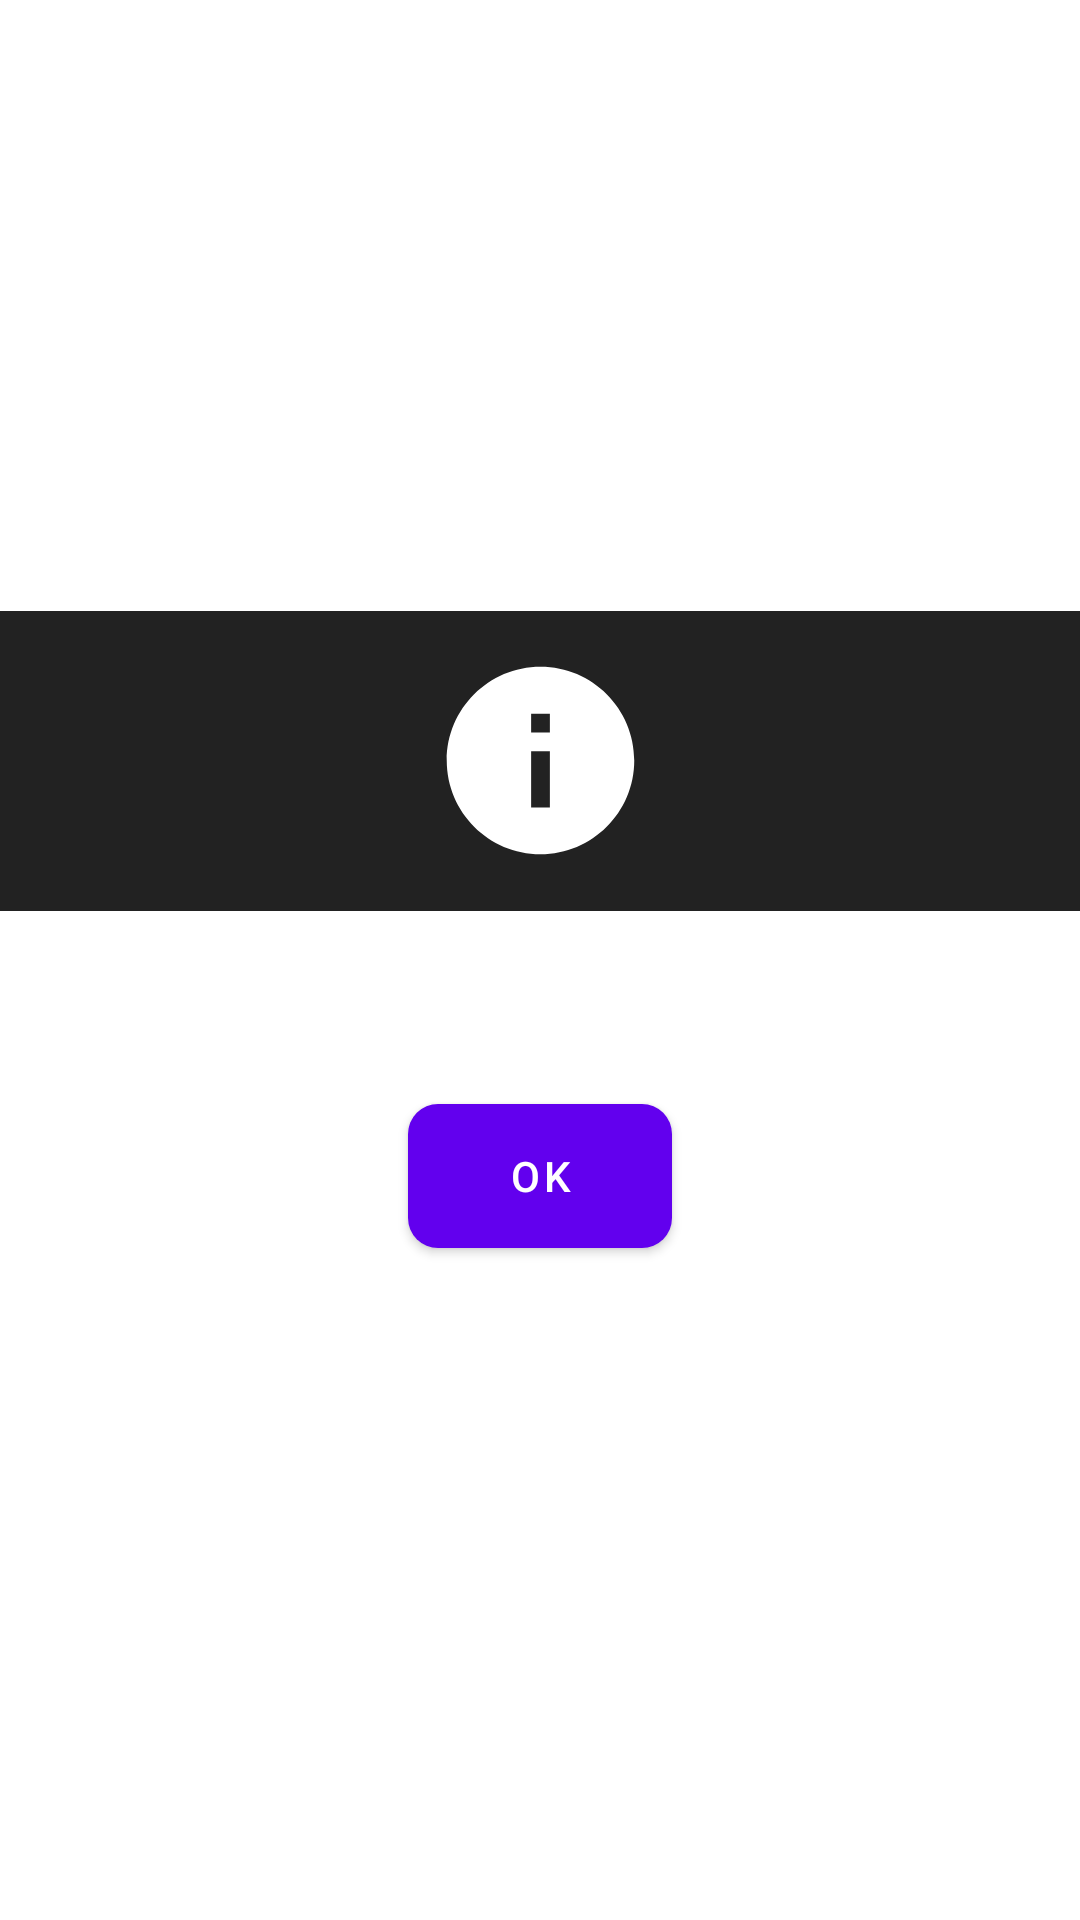

Named icons in this screenshot (1080w x 1920h) and their bounding boxes, (x1, y1, x2, y2):
info: (446, 666, 635, 855)
